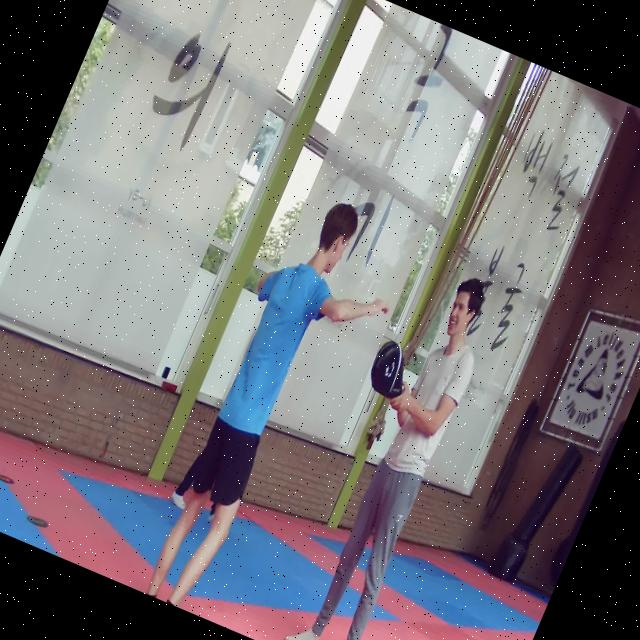paddle: (371, 341, 402, 400)
